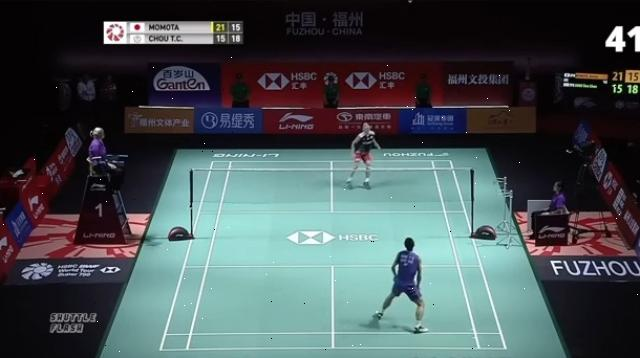Shuttlecock: (406, 0, 414, 6)
